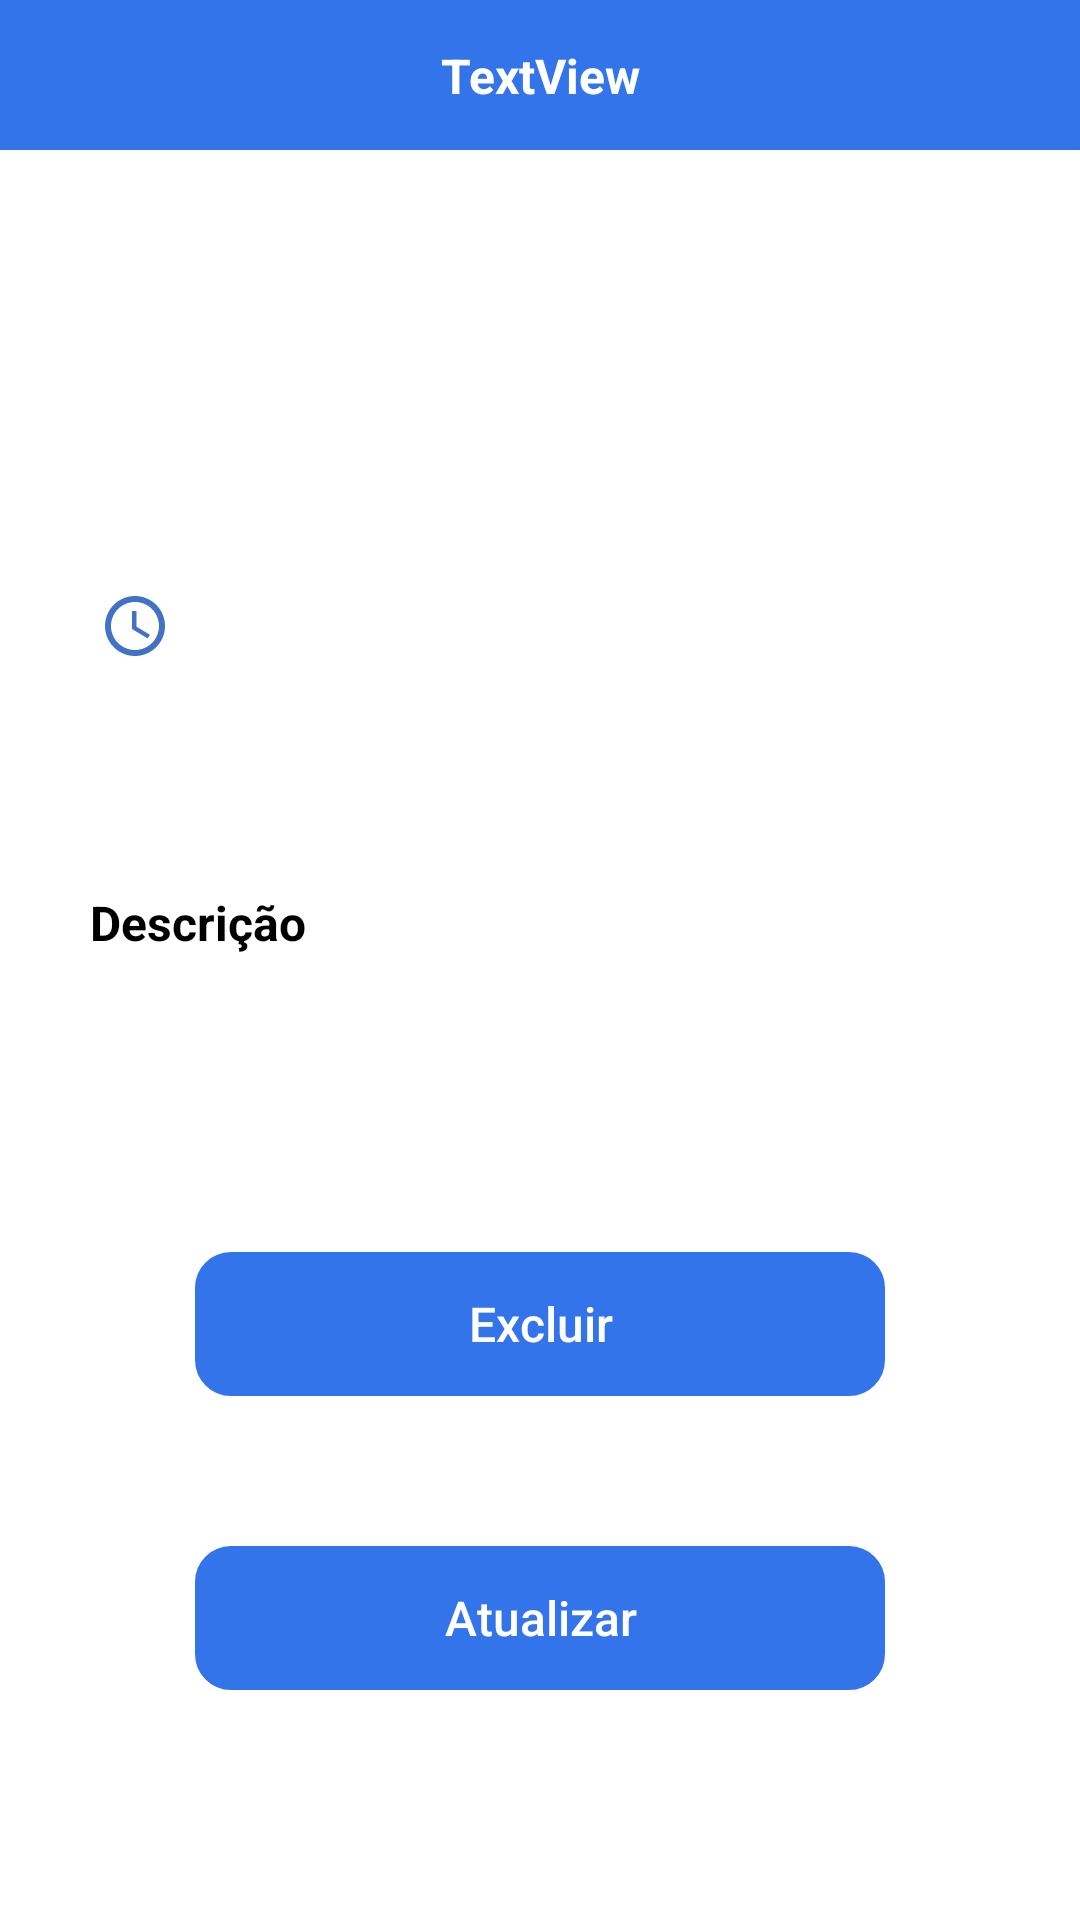

Icon bounding boxes for this 1080 × 1920 phone screenshot, format region(x1, y1, x2, y2):
Img De relogio: region(105, 596, 165, 656)
